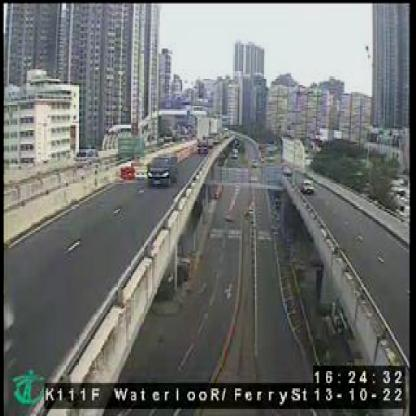Car: (149, 152, 178, 187), (301, 178, 316, 197)
